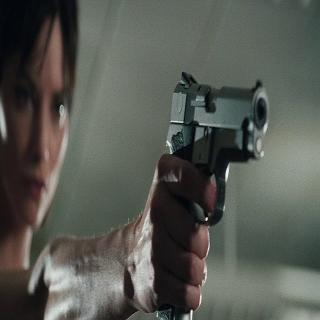gun: (144, 67, 269, 320)
